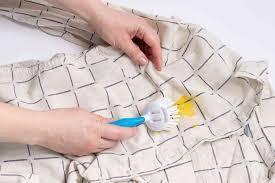lipstick: (176, 95, 194, 116)
